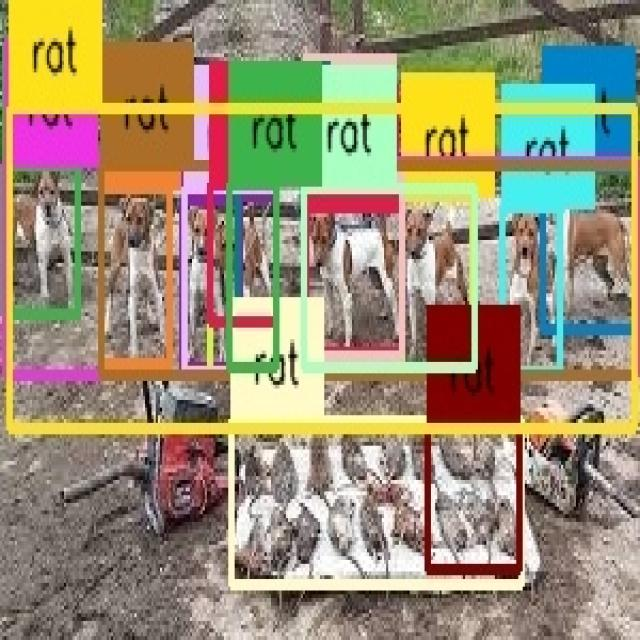rat: (10, 109, 634, 428), (5, 162, 637, 375), (100, 166, 636, 375), (232, 423, 522, 583), (304, 188, 475, 368), (304, 177, 402, 356), (185, 190, 276, 370), (542, 170, 638, 330), (305, 206, 401, 354), (429, 427, 520, 568), (210, 183, 276, 369), (401, 196, 472, 368), (101, 188, 170, 364), (2, 164, 77, 316), (182, 202, 240, 366), (503, 206, 559, 373), (210, 185, 276, 322), (230, 183, 276, 369), (238, 183, 276, 320)
